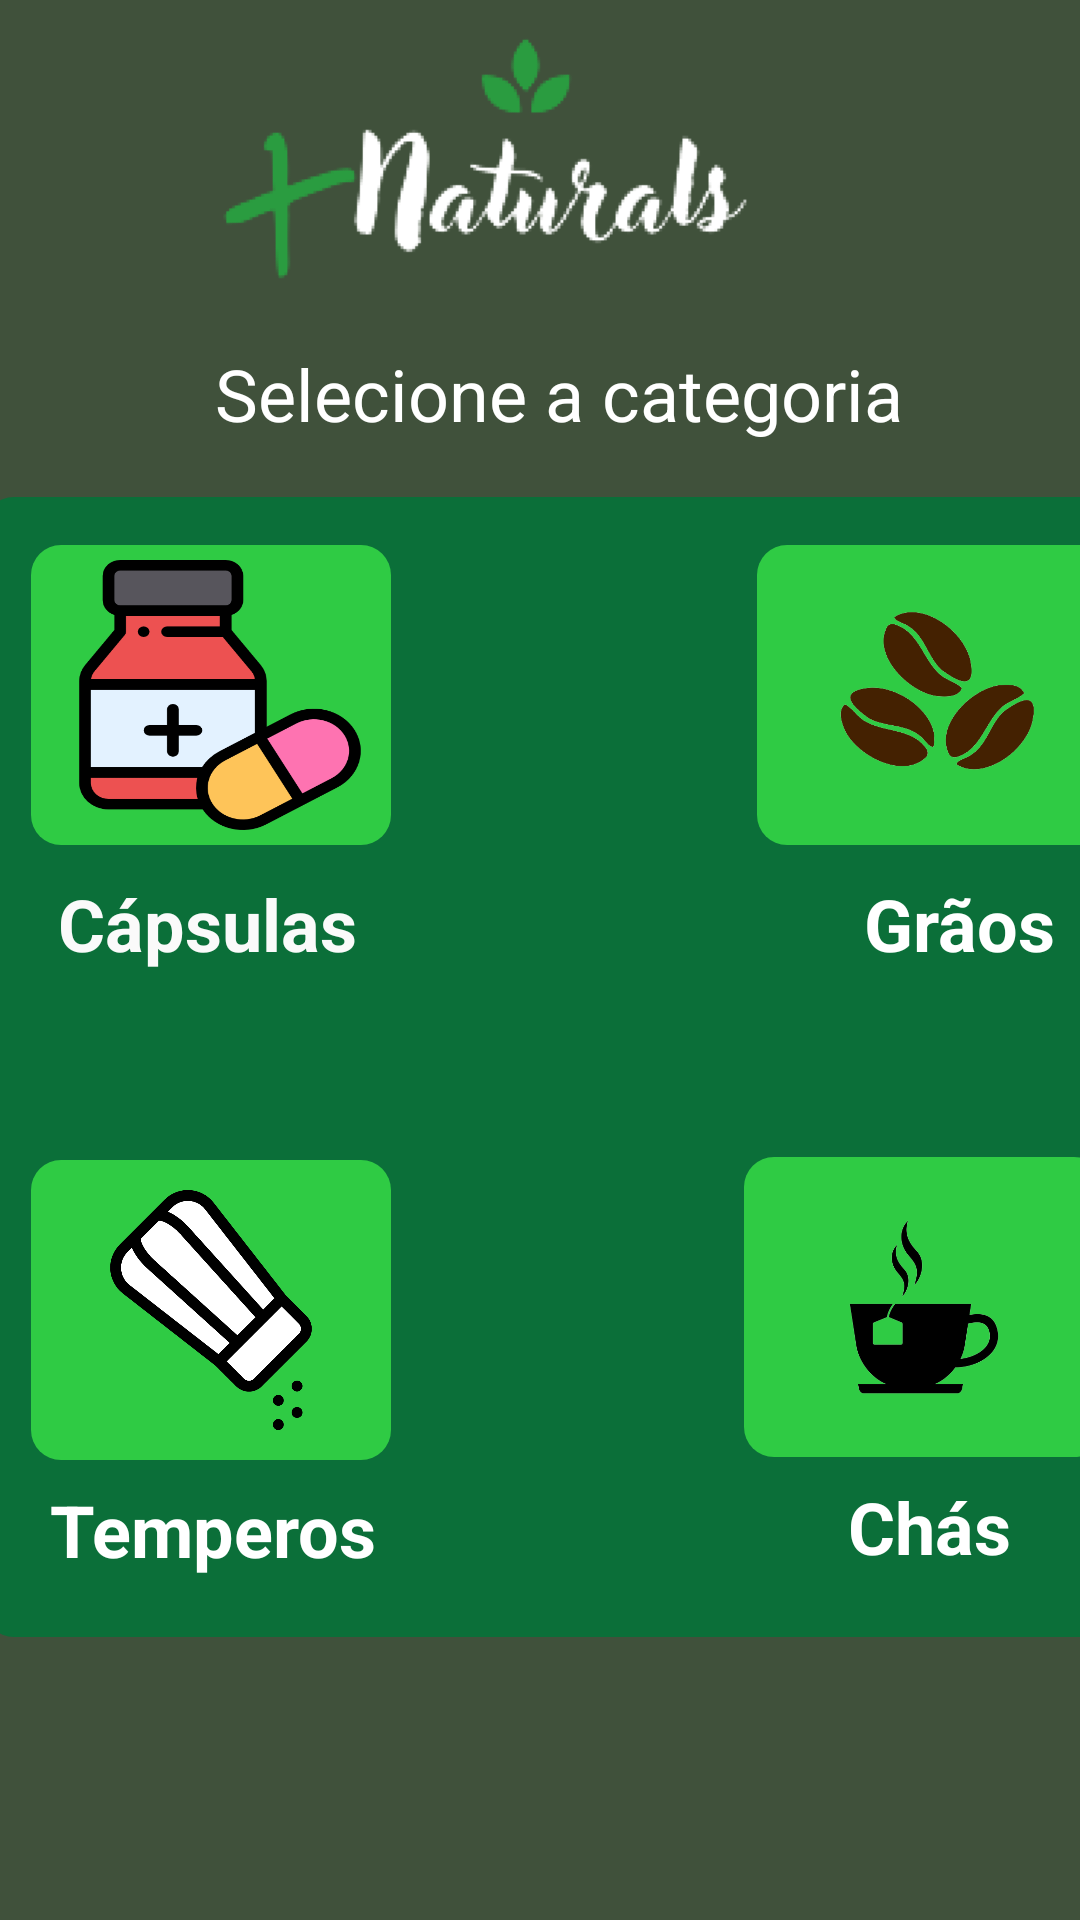

Locate icon controls on the screen. Image size 1080px x 1920px, boxes as detection(x1, y1, x2, y2).
chas vetor: detection(850, 1221, 998, 1394)
grao vetor: detection(840, 612, 1034, 770)
